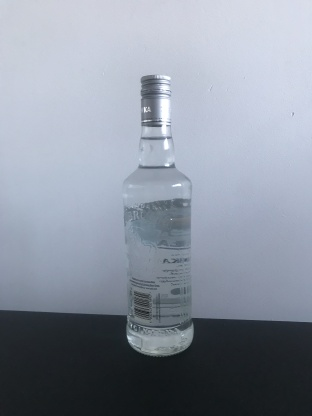nakretka: (139, 72, 173, 127)
